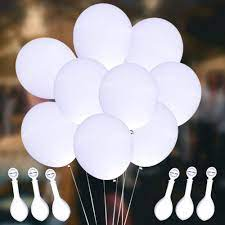Balloon: (14, 37, 78, 100), (72, 3, 132, 66), (21, 102, 78, 167), (75, 113, 129, 181), (99, 64, 154, 126)
